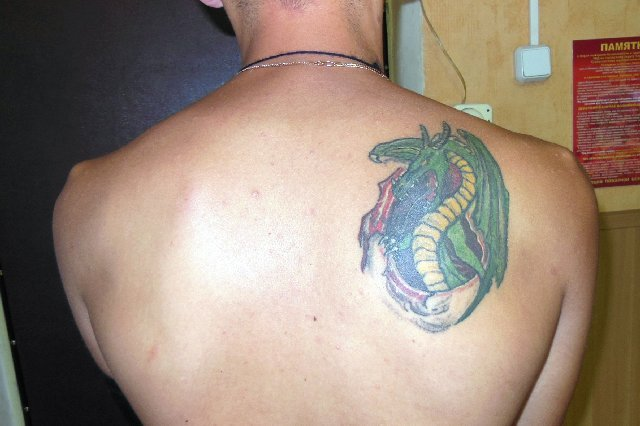tatu6_drakon: (348, 119, 533, 334)
